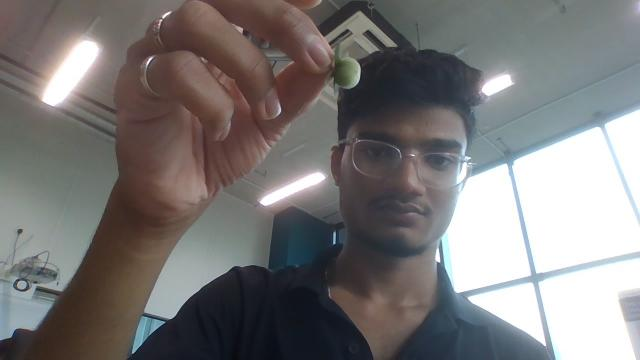Fruit Maturation: (333, 57, 362, 91)
